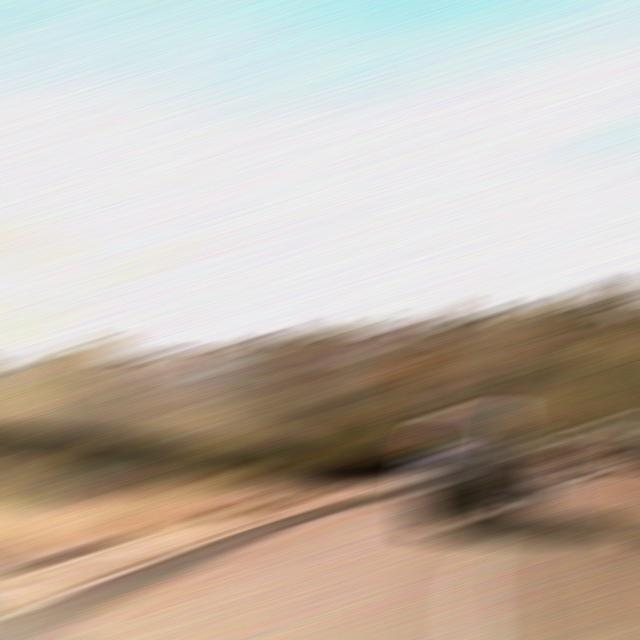yield: (272, 360, 319, 388)
